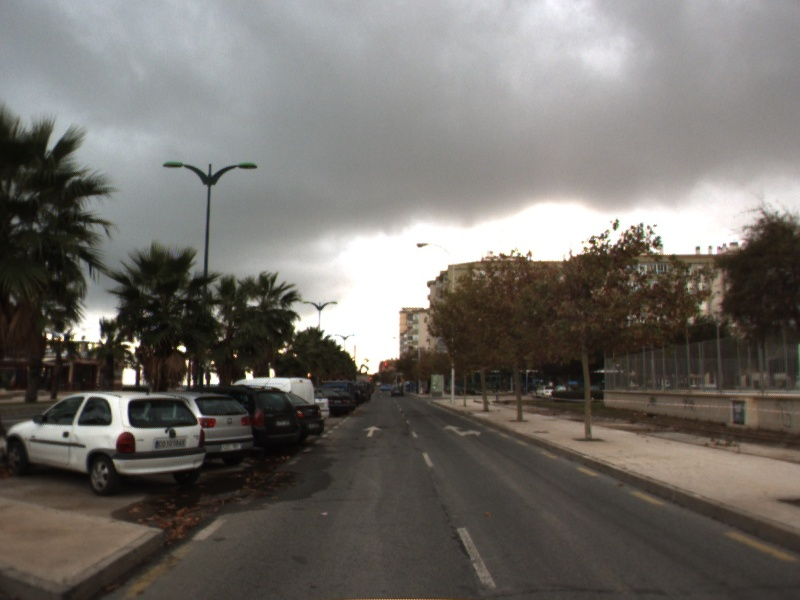STRAIGHT: (360, 423, 385, 439)
STRAIGHT_RIGHT: (441, 422, 484, 439)
